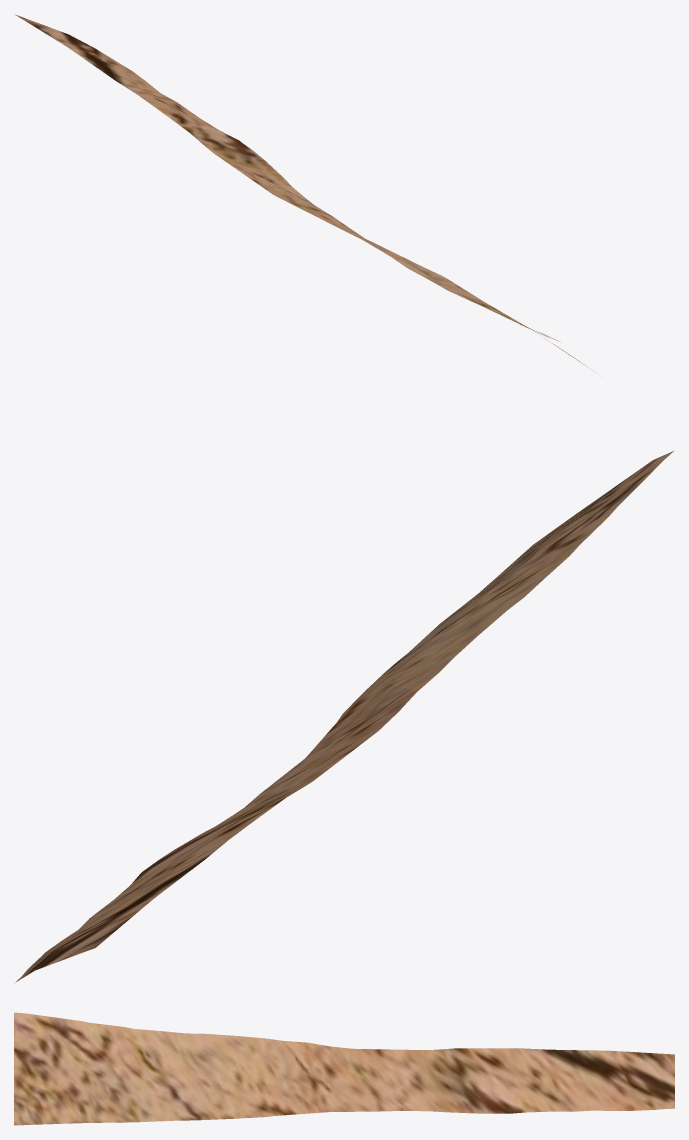
3 renders of one model, top to bottom at view 1: azimuth 30°, elevation 25°; view 2: azimuth 150°, elevation 25°; view 3: azimuth 270°, elevation 25°, orthographic. The views are drawn at different scales.
Size of the model in its own units: 0.1476 by 0.1282 by 1.04.
Materials: 1 (1 with a texture image).
